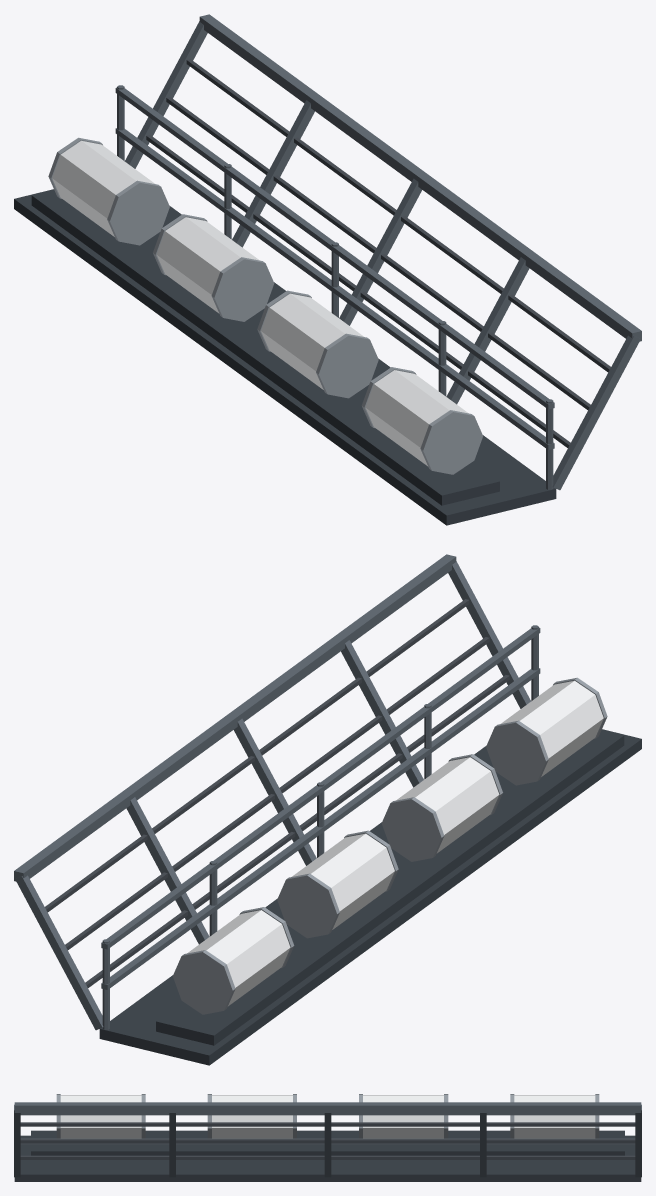
File: env_fallow_catwalk_rafts.fbx
3 renders of one model, top to bottom at view 1: azimuth 30°, elevation 25°; view 2: azimuth 150°, elevation 25°; view 3: azimuth 270°, elevation 25°, orthographic. The views are drawn at different scales.
Visible parts, largest first — view 1: env_fallow_catwalk_rafts; view 2: env_fallow_catwalk_rafts; view 3: env_fallow_catwalk_rafts.
Boxes of the visible parts, x1=… form: env_fallow_catwalk_rafts: x1=14, y1=14, x2=641, y2=525; env_fallow_catwalk_rafts: x1=14, y1=554, x2=641, y2=1065; env_fallow_catwalk_rafts: x1=14, y1=1094, x2=641, y2=1181.
Size of the model in its own units: 605 by 435 by 2325.
